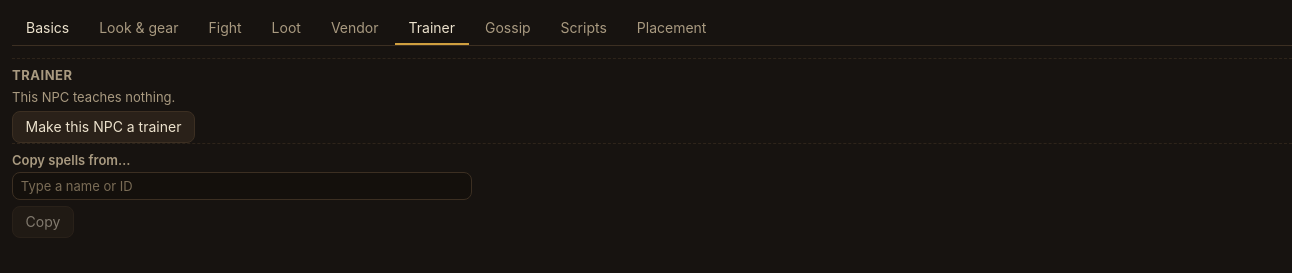
Scenario: the Trainer tab › says so, and changes nothing, when no id could be got
This screenshot has width=1292, height=273.
Click the button "Make this NPC a trainer" at (104, 127), box [12,111,195,143]
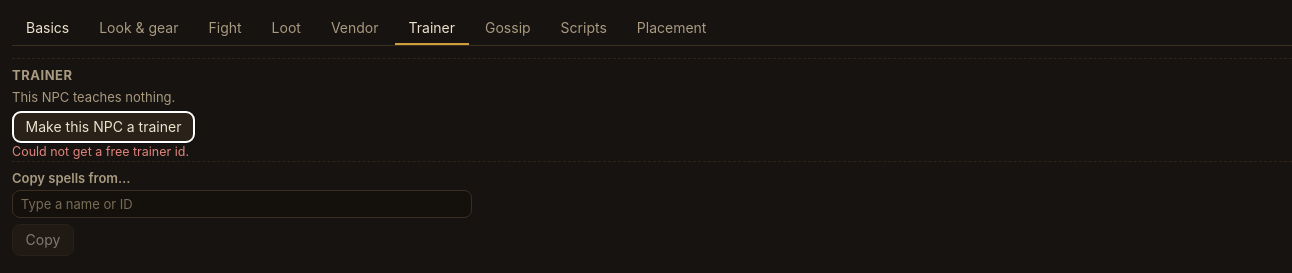
Expected: the message reads "Could not get a free trainer id.", [12,144,189,159]
